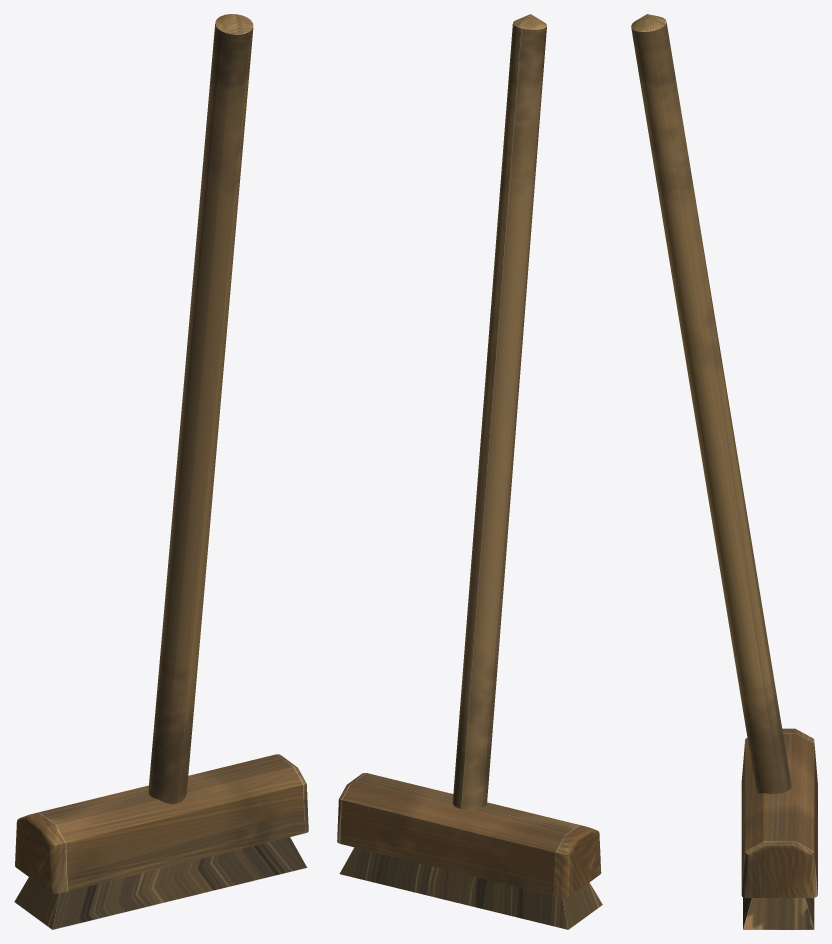
Rendered from Broom.fbx.
3 views of the same model, side by side, from view 1: azimuth 30°, elevation 25°; view 2: azimuth 150°, elevation 25°; view 3: azimuth 270°, elevation 25° (orthographic). The views are drawn at different scales.
Parts seen in each view (by area): view 1: pCylinder4; view 2: pCylinder4; view 3: pCylinder4.
Part boxes in pixels (x1,y1,x2,y2): pCylinder4: [14, 14, 308, 929]; pCylinder4: [337, 14, 602, 929]; pCylinder4: [631, 14, 817, 929].
Bounding box in the file's own units: 11.13 × 37.98 × 7.48.
1 material, 1 textured.
